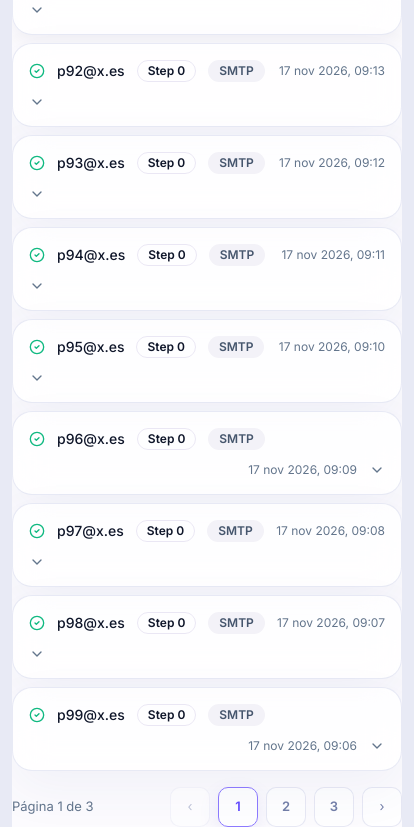
Test case: Registro de envíos de la campaña › la página 2 pide las 100 siguientes
The image size is (414, 827).
(page scrolled)
Click the button named "Página siguiente": (382, 807) [362,787,402,826]
(page scrolled)
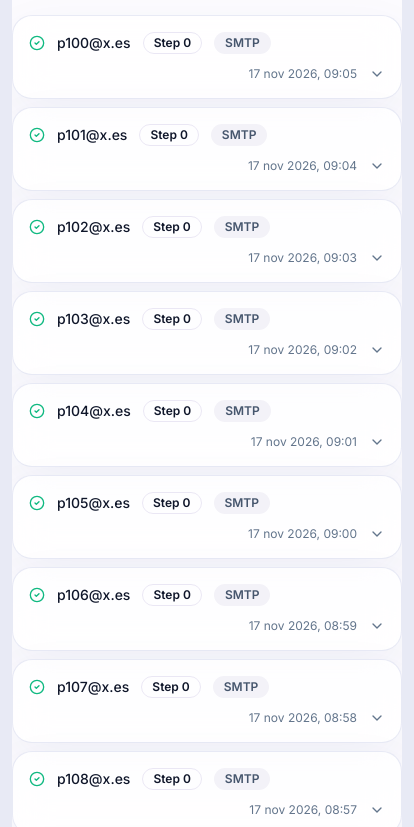
Now the text "p100@x.es" is shown, box [57,33,131,53]
